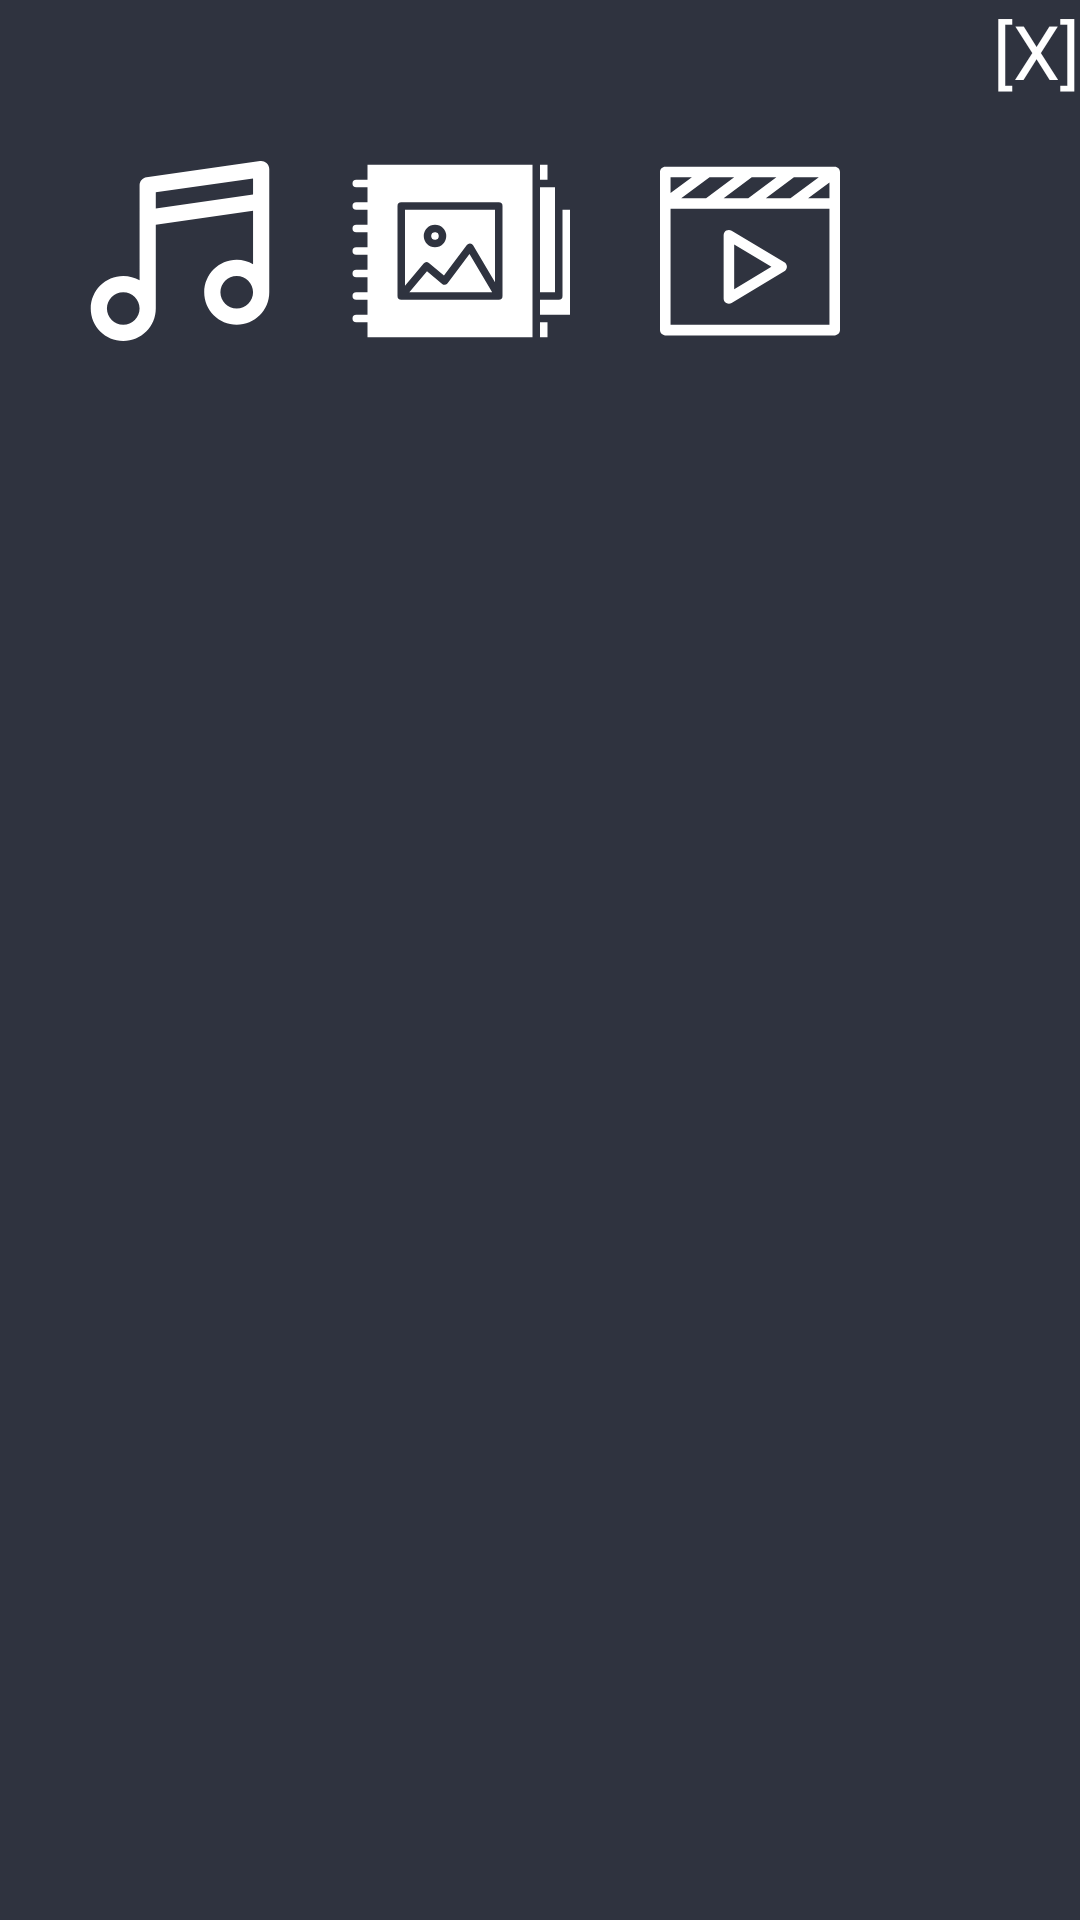

Named icons in this screenshot (1080x1920) and their bounding boxes, {"x1": x1, "y1": y1, "x2": x2, "y2": y2}:
music player: {"x1": 90, "y1": 161, "x2": 270, "y2": 341}
photo album: {"x1": 352, "y1": 164, "x2": 570, "y2": 338}
video: {"x1": 660, "y1": 166, "x2": 840, "y2": 336}
